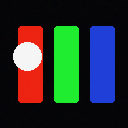2 circle: (13, 42, 41, 70)
